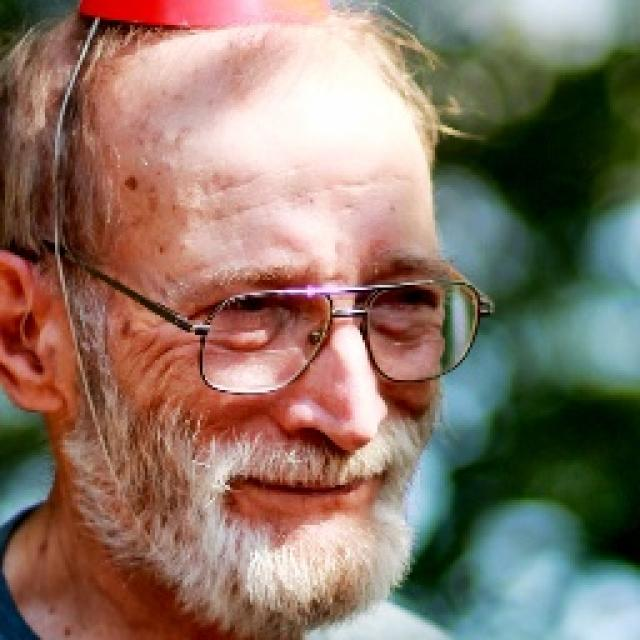earlobe: (0, 250, 66, 414)
